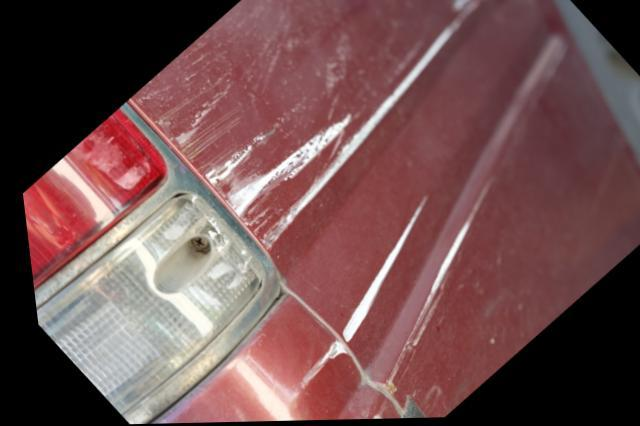scratch: (126, 2, 482, 254), (286, 196, 427, 395), (369, 182, 493, 401)
